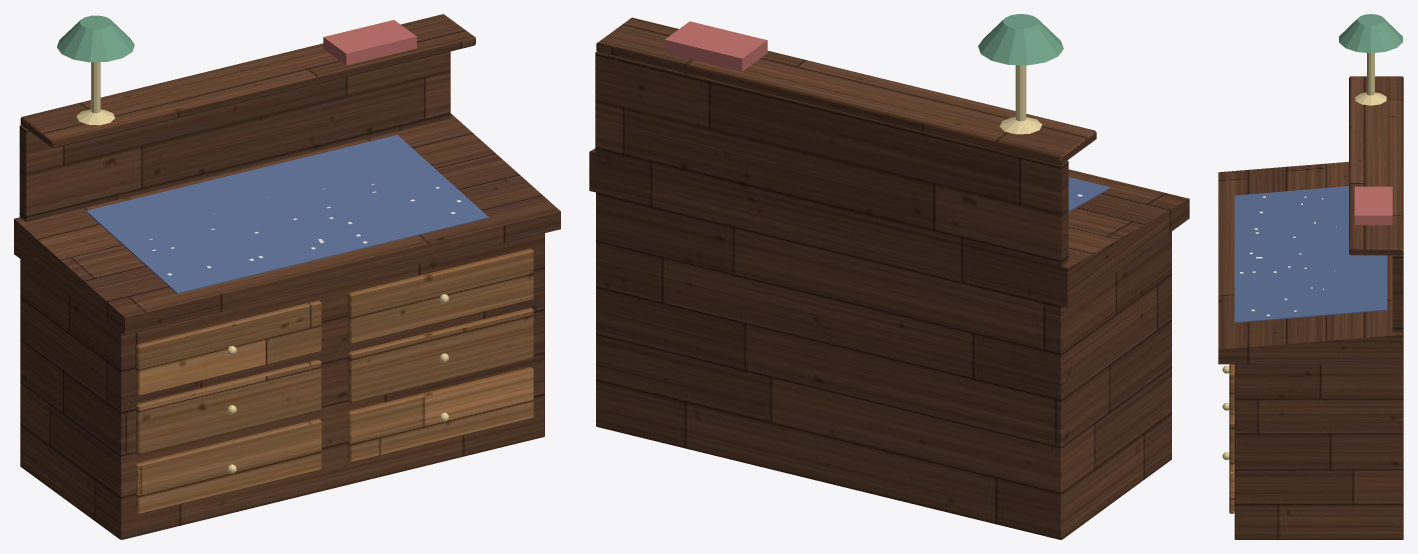
The model's file is chart_desk.glb.
3 renders of one model, left to right at view 1: azimuth 30°, elevation 25°; view 2: azimuth 150°, elevation 25°; view 3: azimuth 270°, elevation 25°, orthographic. The views are drawn at different scales.
Parts seen in each view (by area): view 1: chart_desk_dkwood, chart_desk_oak, chart_desk_chart, chart_desk_book_r, chart_desk_felt, chart_desk_brass; view 2: chart_desk_dkwood, chart_desk_book_r, chart_desk_felt, chart_desk_brass, chart_desk_chart; view 3: chart_desk_dkwood, chart_desk_chart, chart_desk_felt, chart_desk_book_r, chart_desk_oak, chart_desk_brass.
Part boxes in pixels (left/top/right/bottom): chart_desk_dkwood: left=14, top=14, right=560, bottom=539; chart_desk_oak: left=136, top=248, right=533, bottom=514; chart_desk_chart: left=86, top=134, right=488, bottom=293; chart_desk_book_r: left=323, top=20, right=416, bottom=65; chart_desk_felt: left=57, top=15, right=134, bottom=62; chart_desk_brass: left=76, top=62, right=448, bottom=473; chart_desk_dkwood: left=589, top=17, right=1189, bottom=539; chart_desk_book_r: left=664, top=21, right=767, bottom=71; chart_desk_felt: left=978, top=14, right=1063, bottom=65; chart_desk_brass: left=999, top=65, right=1042, bottom=134; chart_desk_chart: left=1068, top=177, right=1110, bottom=211; chart_desk_dkwood: left=1218, top=76, right=1403, bottom=539; chart_desk_chart: left=1234, top=186, right=1387, bottom=322; chart_desk_felt: left=1339, top=14, right=1402, bottom=53; chart_desk_book_r: left=1354, top=186, right=1392, bottom=225; chart_desk_oak: left=1229, top=364, right=1234, bottom=513; chart_desk_brass: left=1222, top=53, right=1386, bottom=459.
Bounding box in the file's own units: 1.54 × 1.5 × 0.68.
Materials: 7 (2 with a texture image).
